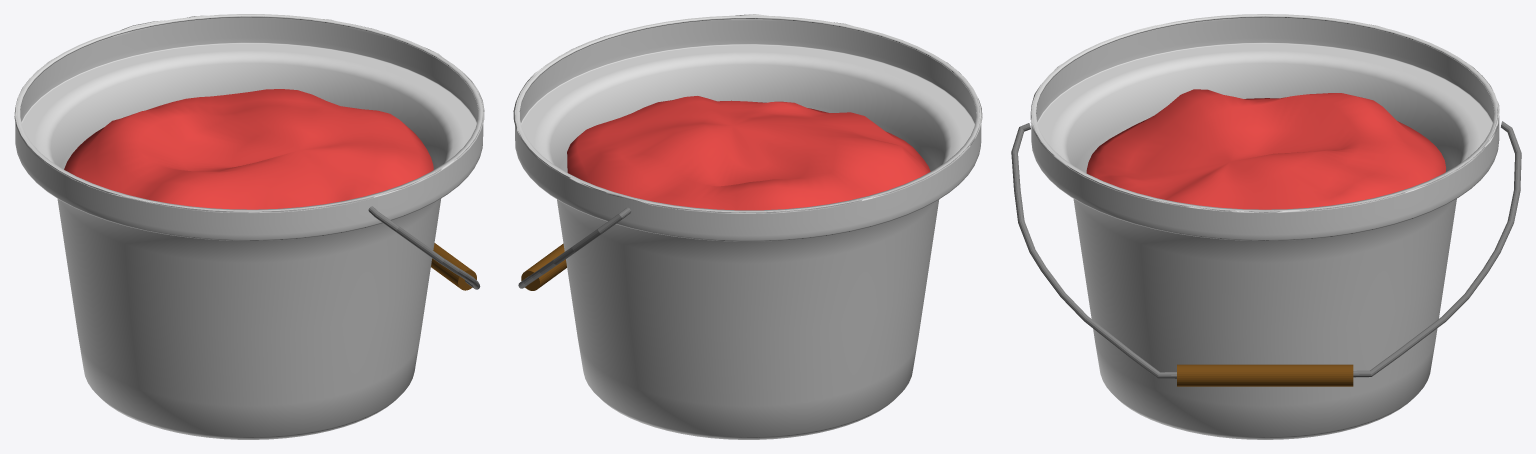
File: PaintBox 1.fbx
The picture shows the model from 3 angles, left to right: view 1: azimuth 30°, elevation 25°; view 2: azimuth 150°, elevation 25°; view 3: azimuth 270°, elevation 25°; orthographic projection.
Visible parts, largest first — view 1: Vert.001; view 2: Vert.001; view 3: Vert.001.
Boxes of the visible parts, x1,y1,x2,y2 form: Vert.001: [14, 14, 484, 439]; Vert.001: [513, 14, 982, 439]; Vert.001: [1011, 14, 1521, 439].
Size of the model in its own units: 282 by 172 by 306.
